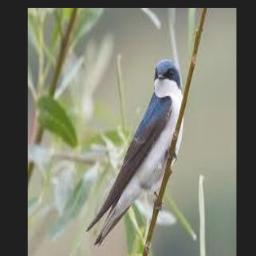Swallow: (86, 59, 184, 246)
